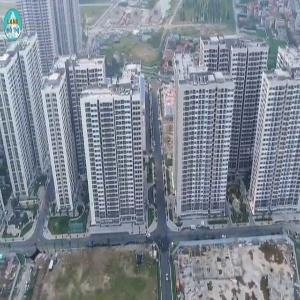drone: (14, 232, 57, 275)
